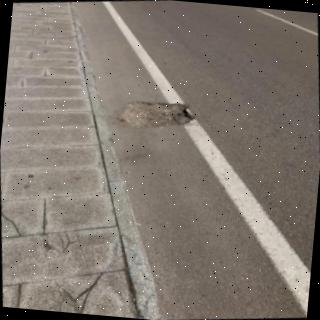pothole: (116, 102, 195, 130)
